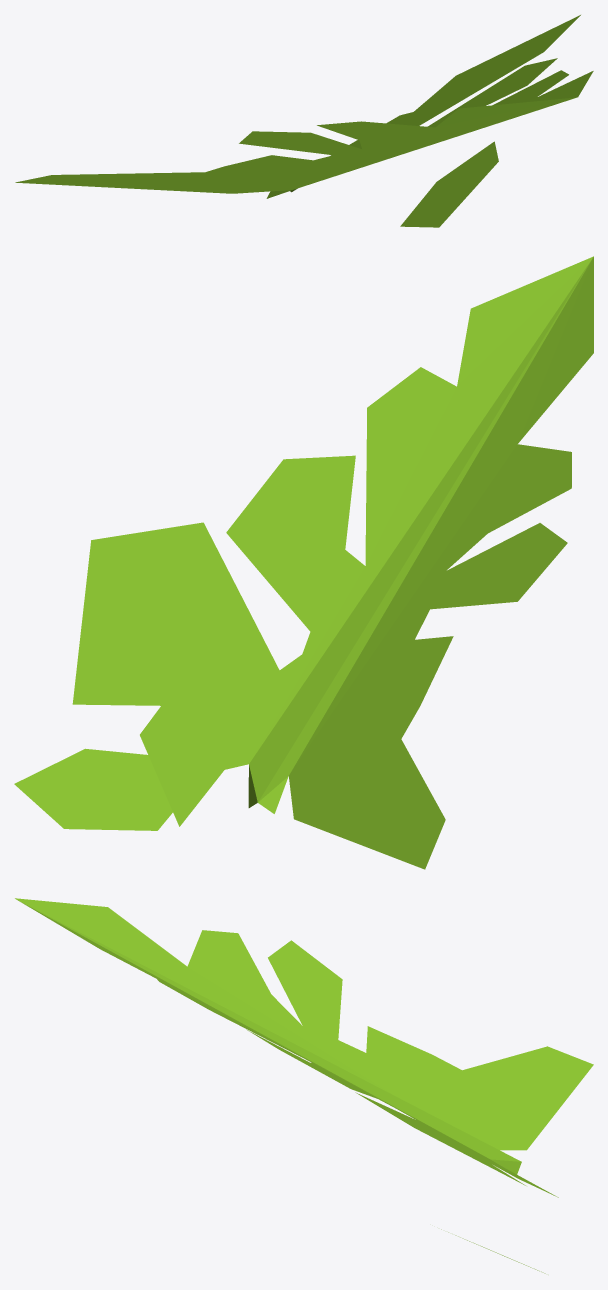
Rendered from leaf.fbx.
3 views of the same model, one above another, from view 1: azimuth 30°, elevation 25°; view 2: azimuth 150°, elevation 25°; view 3: azimuth 270°, elevation 25° (orthographic). The views are drawn at different scales.
Parts seen in each view (by area): view 1: Plant_d_02_LOD2; view 2: Plant_d_02_LOD2; view 3: Plant_d_02_LOD2.
Boxes of the visible parts, bbox=[...] form: Plant_d_02_LOD2: bbox=[15, 15, 593, 227]; Plant_d_02_LOD2: bbox=[14, 256, 593, 869]; Plant_d_02_LOD2: bbox=[15, 898, 593, 1273].
Bounding box in the file's own units: 12.08 × 9.91 × 16.96.
